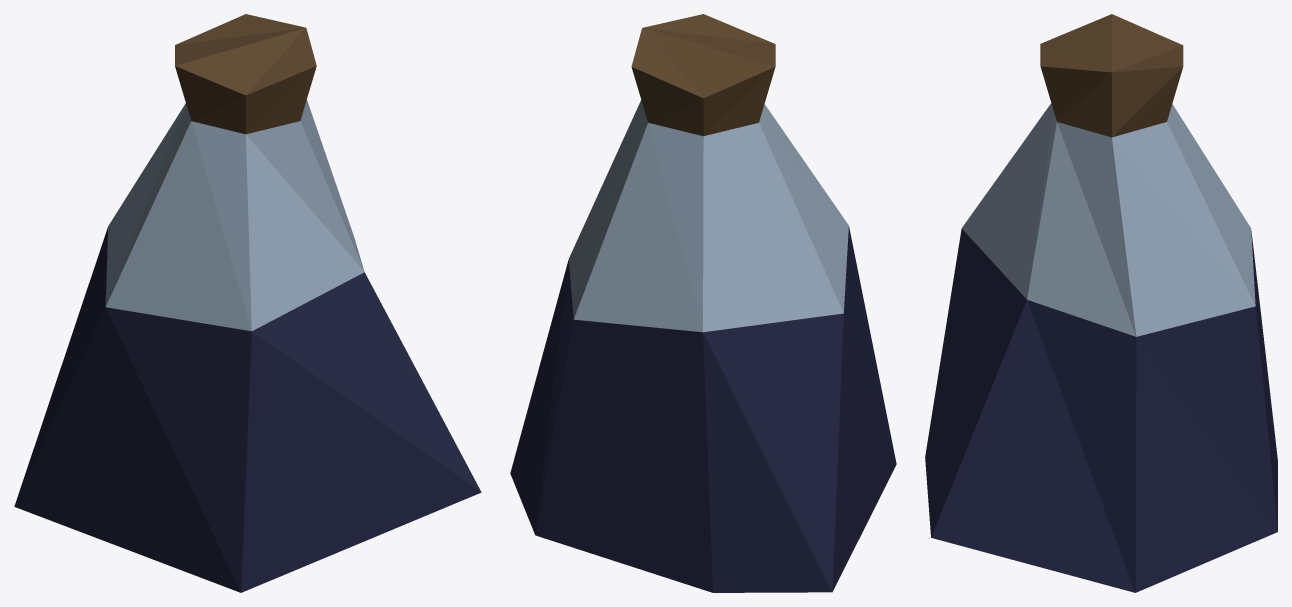
The model's file is potion_03.fbx.
The picture shows the model from 3 angles, left to right: view 1: azimuth 30°, elevation 25°; view 2: azimuth 150°, elevation 25°; view 3: azimuth 270°, elevation 25°; orthographic projection.
Parts seen in each view (by area): view 1: potion_03; view 2: potion_03; view 3: potion_03.
Part boxes in pixels (x1=…): potion_03: x1=14, y1=14, x2=481, y2=592; potion_03: x1=510, y1=14, x2=896, y2=592; potion_03: x1=925, y1=14, x2=1277, y2=592.
Size of the model in its own units: 1.29 by 1.58 by 1.09.
